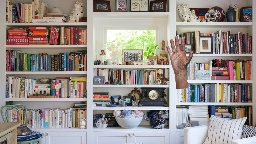Mano_aperta: (164, 34, 194, 69)
